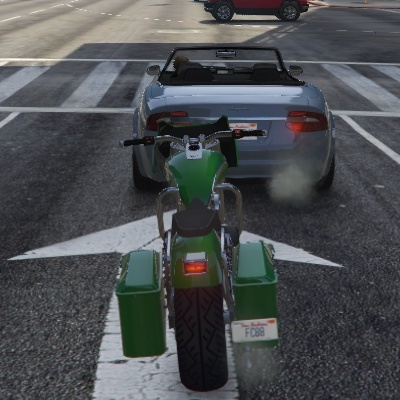on: (179, 252, 210, 279)
